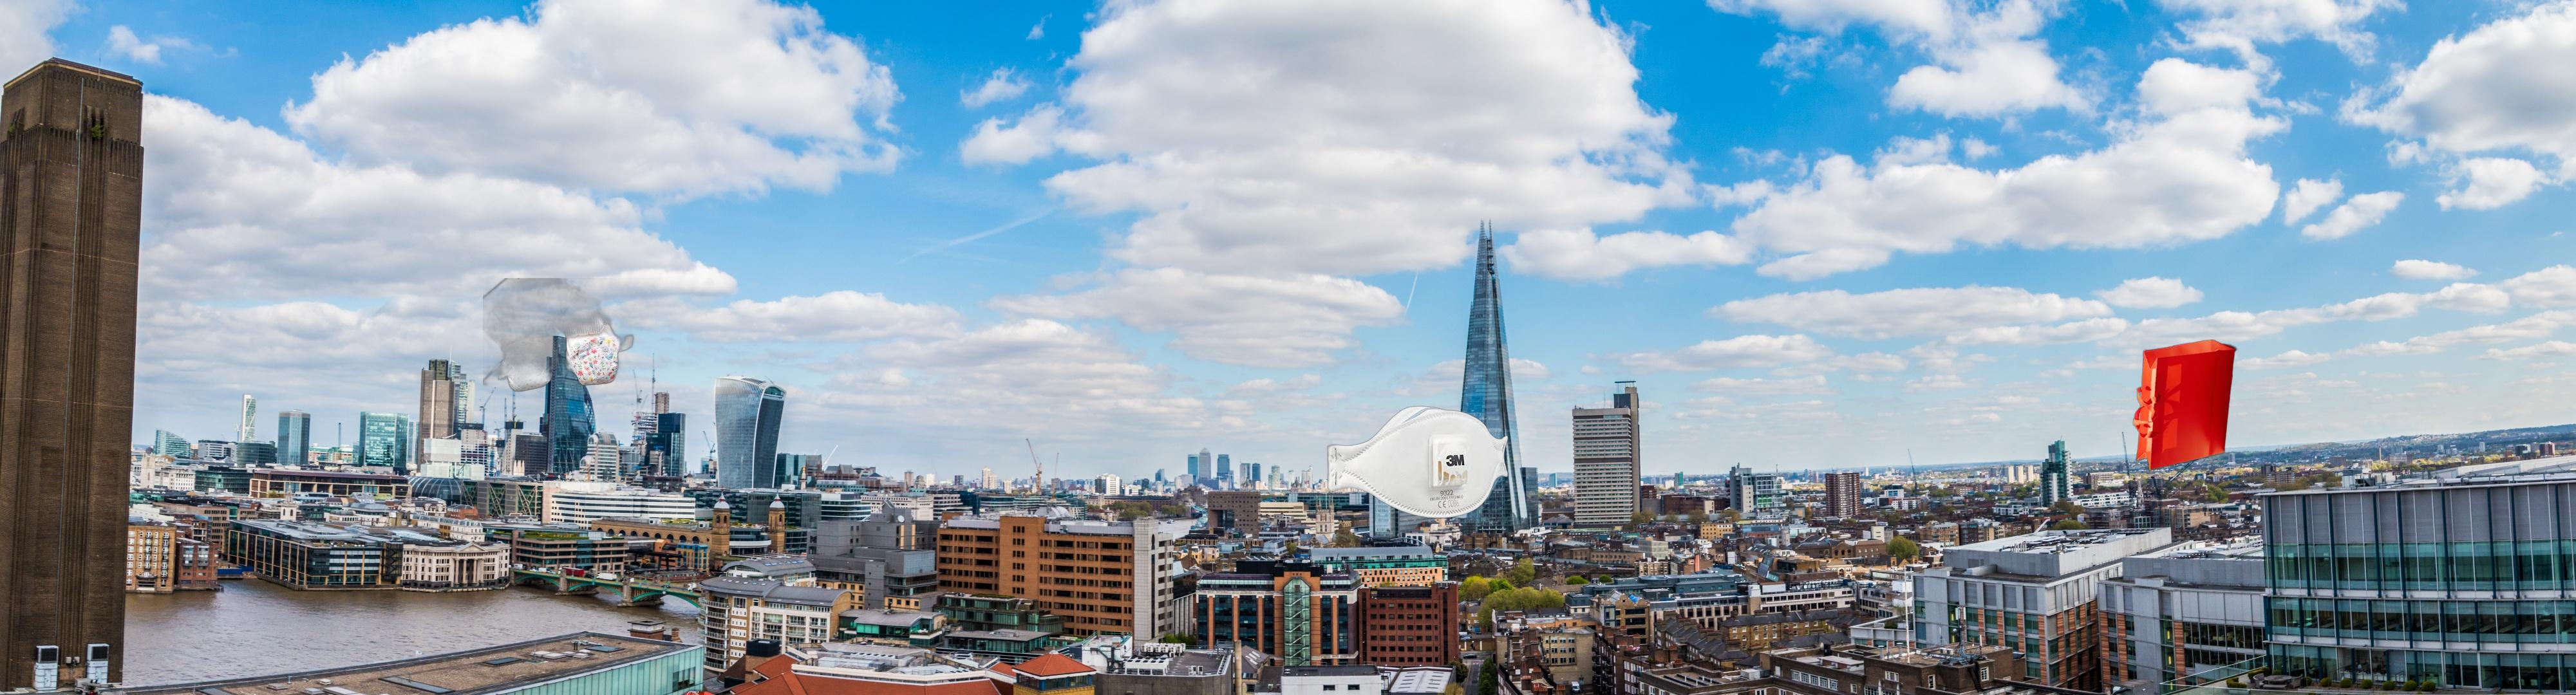metal-cans: (664, 685, 738, 695)
paper-bag: (2131, 338, 2239, 473)
trash: (483, 278, 660, 396), (1327, 404, 1510, 519)
